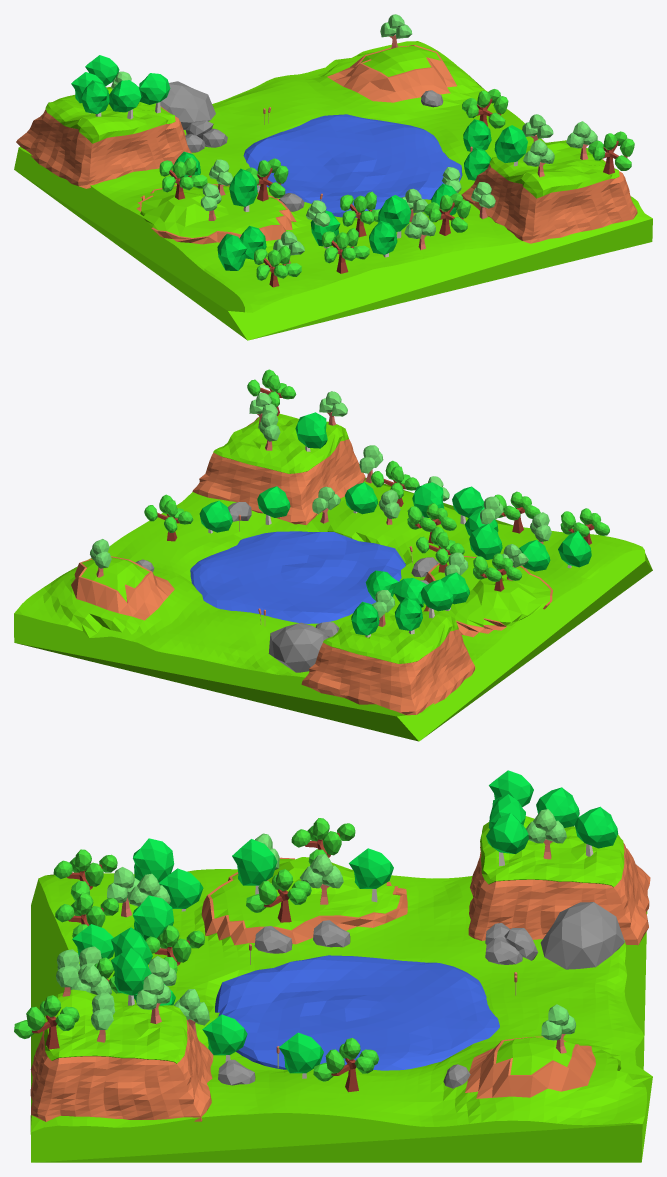
The model's file is Лоу поли локация лес.fbx.
3 renders of one model, top to bottom at view 1: azimuth 30°, elevation 25°; view 2: azimuth 150°, elevation 25°; view 3: azimuth 270°, elevation 25°, orthographic. The views are drawn at different scales.
Visible parts, largest first — view 1: Cube.003, Icosphere.007, Icosphere.005, Дерево.004, Дерево.006, Дерево, Дерево.002, Дерево.007, Дерево.003, Дерево.005, Дерево.001, Березка.013 (+19 smaller); view 2: Cube.003, Icosphere.007, Icosphere.005, Дерево, Дерево.005, Дерево.007, Дерево.003, Березка.013, Дерево.001, Дерево.002, Дерево.006, Дерево.004 (+19 smaller); view 3: Cube.003, Icosphere.007, Icosphere.005, Дерево.005, Дерево.006, Дерево.001, Дерево.007, Березка.001, Дерево, Дерево.004, Дерево.003, Березка.010 (+28 smaller).
Boxes of the visible parts, left/top/right/bottom form: Cube.003: left=14, top=41, right=652, bottom=340; Icosphere.007: left=243, top=114, right=462, bottom=217; Icosphere.005: left=160, top=81, right=215, bottom=129; Дерево.004: left=322, top=228, right=369, bottom=273; Дерево.006: left=588, top=131, right=634, bottom=174; Дерево: left=159, top=157, right=207, bottom=199; Дерево.002: left=424, top=193, right=470, bottom=235; Дерево.007: left=254, top=245, right=301, bottom=287; Дерево.003: left=340, top=191, right=380, bottom=237; Дерево.005: left=462, top=89, right=508, bottom=128; Дерево.001: left=246, top=158, right=288, bottom=201; Березка.013: left=494, top=125, right=527, bottom=166; Cube.003: left=14, top=413, right=652, bottom=741; Icosphere.007: left=190, top=531, right=405, bottom=623; Icosphere.005: left=268, top=622, right=328, bottom=672; Дерево: left=473, top=553, right=522, bottom=591; Дерево.005: left=144, top=494, right=193, bottom=541; Дерево.007: left=560, top=508, right=609, bottom=544; Дерево.003: left=407, top=503, right=456, bottom=543; Березка.013: left=295, top=412, right=327, bottom=451; Дерево.001: left=416, top=526, right=464, bottom=572; Дерево.002: left=371, top=460, right=419, bottom=506; Дерево.006: left=247, top=369, right=296, bottom=415; Дерево.004: left=494, top=491, right=540, bottom=533; Cube.003: left=30, top=816, right=652, bottom=1162; Icosphere.007: left=215, top=955, right=499, bottom=1070; Icosphere.005: left=540, top=902, right=624, bottom=969; Дерево.005: left=313, top=1038, right=378, bottom=1092; Дерево.006: left=14, top=995, right=79, bottom=1049; Дерево.001: left=246, top=869, right=311, bottom=922; Дерево.007: left=53, top=849, right=117, bottom=900; Березка.001: left=232, top=839, right=277, bottom=894; Дерево: left=291, top=818, right=355, bottom=864; Дерево.004: left=55, top=892, right=118, bottom=937; Дерево.003: left=145, top=925, right=204, bottom=973; Березка.010: left=574, top=806, right=618, bottom=856.
Bounding box in the file's own units: 1489 × 456 × 1521.
